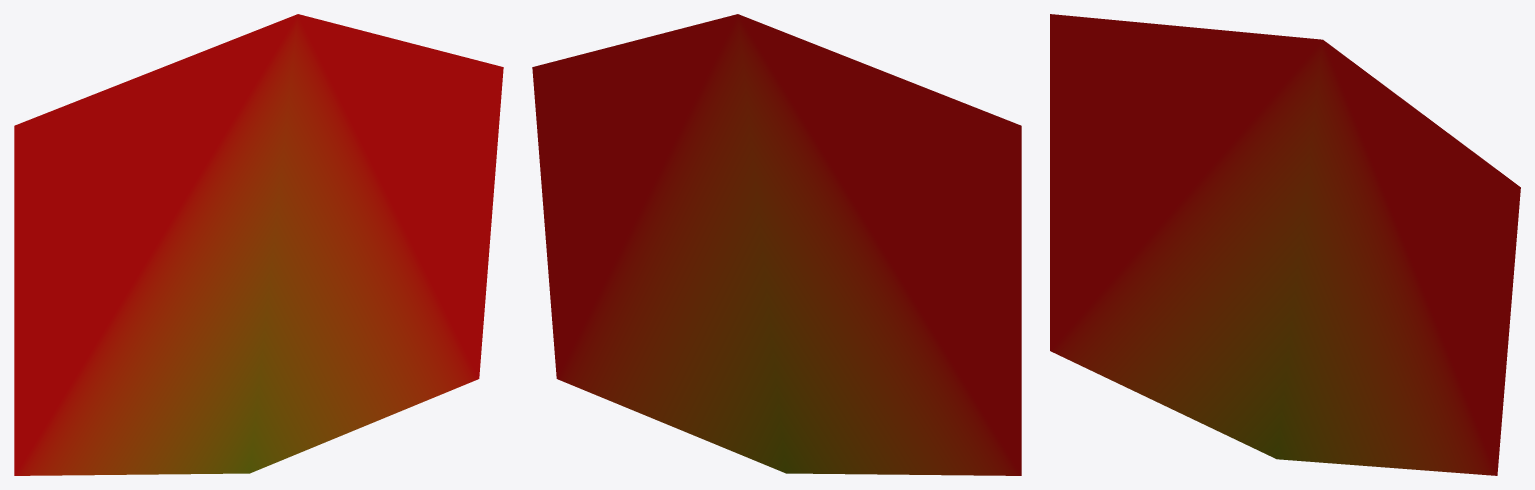
Rendered from Var3_LOD3.fbx.
3 renders of one model, left to right at view 1: azimuth 30°, elevation 25°; view 2: azimuth 150°, elevation 25°; view 3: azimuth 330°, elevation 25°, orthographic. The views are drawn at different scales.
Parts seen in each view (by area): view 1: _98e3_Var3_LOD3; view 2: _98e3_Var3_LOD3; view 3: _98e3_Var3_LOD3.
Part boxes in pixels (bbox=[...]): _98e3_Var3_LOD3: bbox=[14, 14, 503, 475]; _98e3_Var3_LOD3: bbox=[532, 14, 1021, 475]; _98e3_Var3_LOD3: bbox=[1050, 14, 1520, 475].
Bounding box in the file's own units: 125 × 110 × 5.48e-06.
